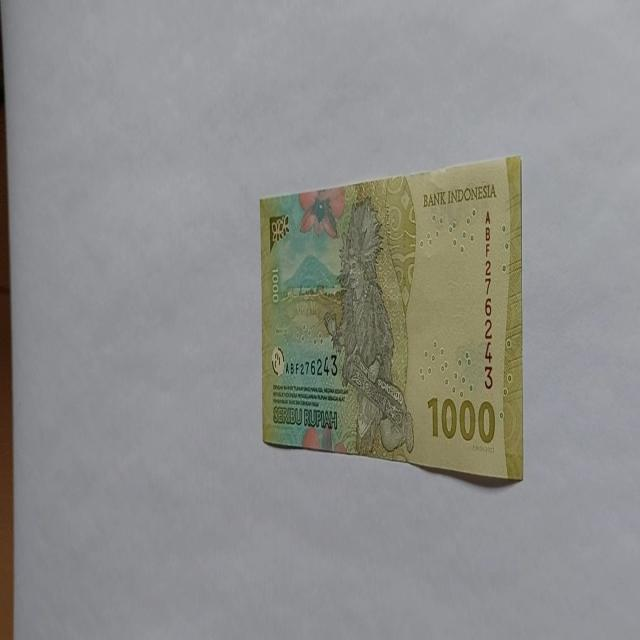seribu rupiah kertas: (258, 152, 524, 484)
